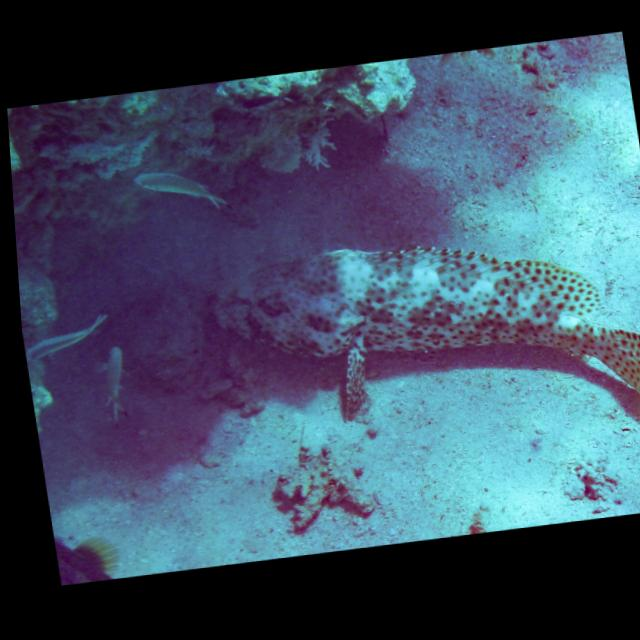Groupers: (202, 211, 640, 461)
